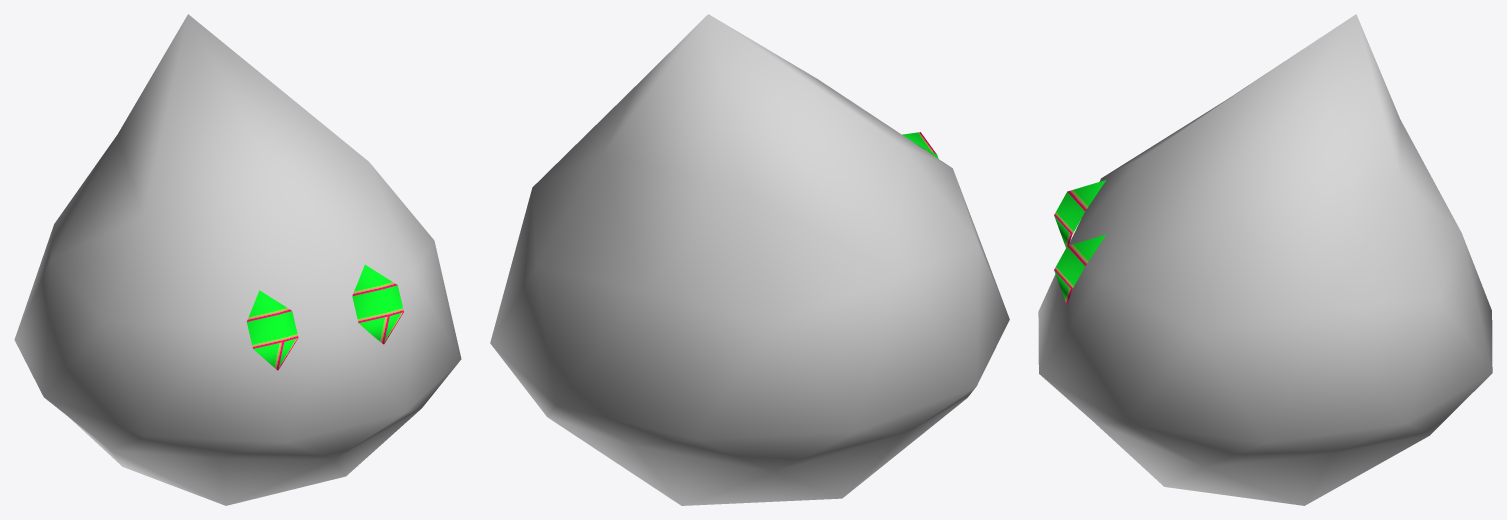
File: ExportedBlenderFBXFile.fbx
3 renders of one model, left to right at view 1: azimuth 30°, elevation 25°; view 2: azimuth 150°, elevation 25°; view 3: azimuth 270°, elevation 25°, orthographic. The views are drawn at different scales.
Visible parts, largest first — view 1: Slime; view 2: Slime; view 3: Slime.
Boxes of the visible parts, left/top/right/bottom form: Slime: left=14, top=14, right=461, bottom=505; Slime: left=490, top=14, right=1009, bottom=505; Slime: left=1038, top=14, right=1492, bottom=505.
Size of the model in its own units: 2.58 by 2.62 by 2.46.
